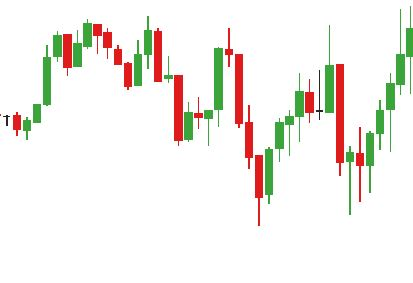sell: (82, 16, 164, 61)
